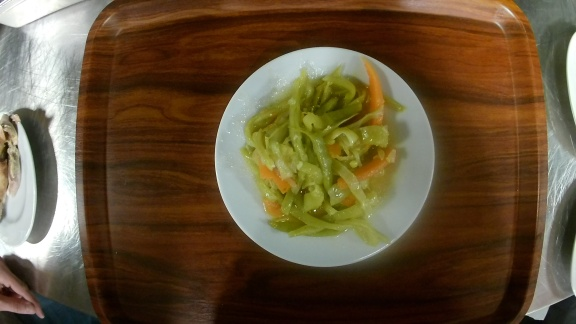tazefasulye: (214, 46, 436, 270)
